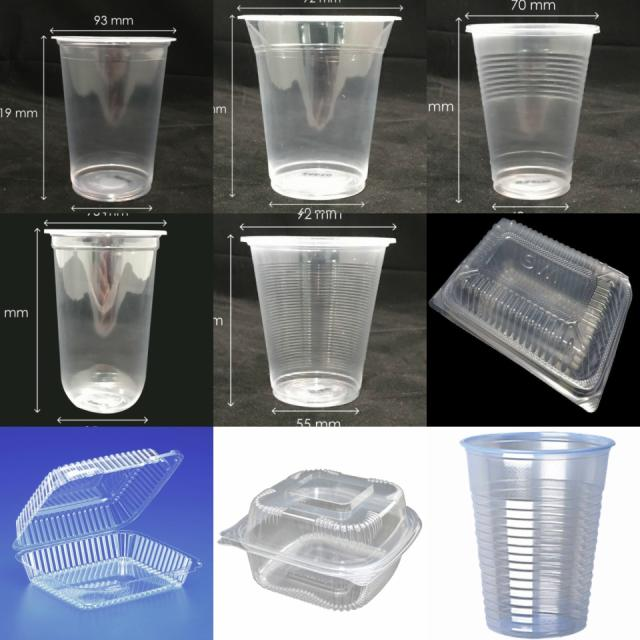Single-Use-Plastic: (430, 219, 631, 411), (461, 432, 615, 638), (12, 449, 201, 609), (239, 15, 401, 199), (219, 470, 421, 609), (241, 236, 395, 408), (466, 24, 600, 199), (45, 230, 166, 412), (52, 36, 175, 202)
